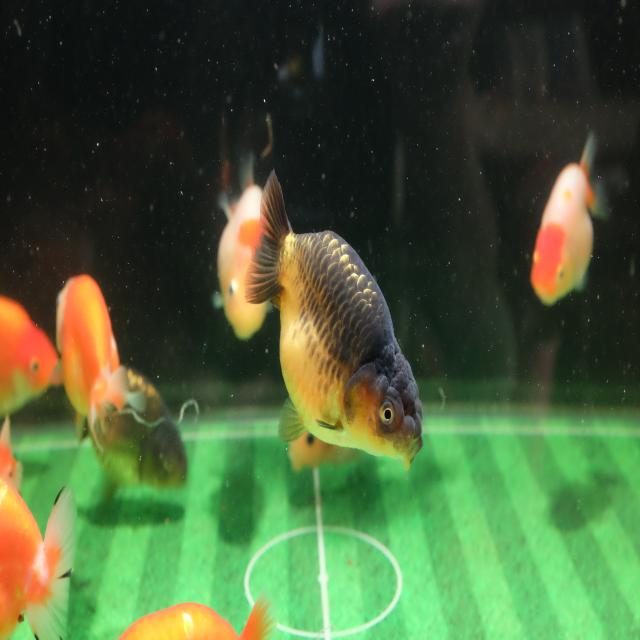Goldfish: (245, 166, 424, 477), (55, 273, 147, 430), (76, 366, 190, 492), (530, 130, 611, 306), (0, 478, 78, 640), (212, 155, 271, 343), (115, 587, 276, 640), (1, 291, 58, 419)
